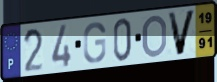0: (112, 16, 133, 63)
2: (22, 27, 46, 74)
4: (50, 22, 73, 70)
G: (82, 21, 107, 65)
O: (141, 14, 168, 60)
V: (166, 8, 198, 58)
